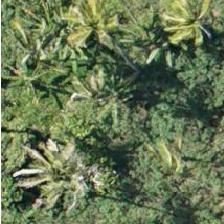coconut_tree: (7, 136, 97, 223), (44, 0, 134, 71), (145, 0, 223, 69)
